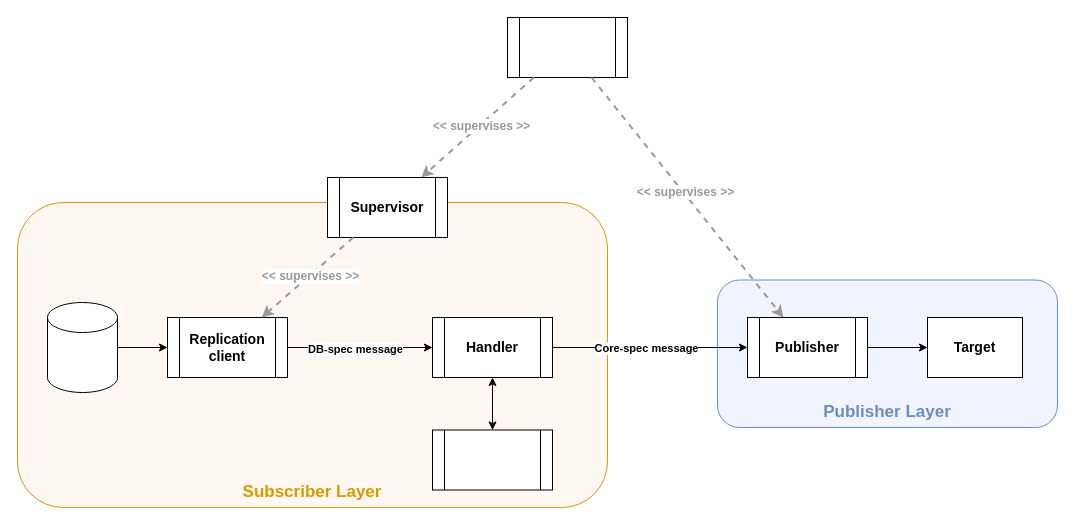
Some shapes in this 1075 by 525 pixel diagram are drawn without their labels. Each missing label, with the centre of its shape:
"Application" belongs at point (567, 47).
"DB" belongs at point (82, 347).
"Relation store" belongs at point (492, 459).
